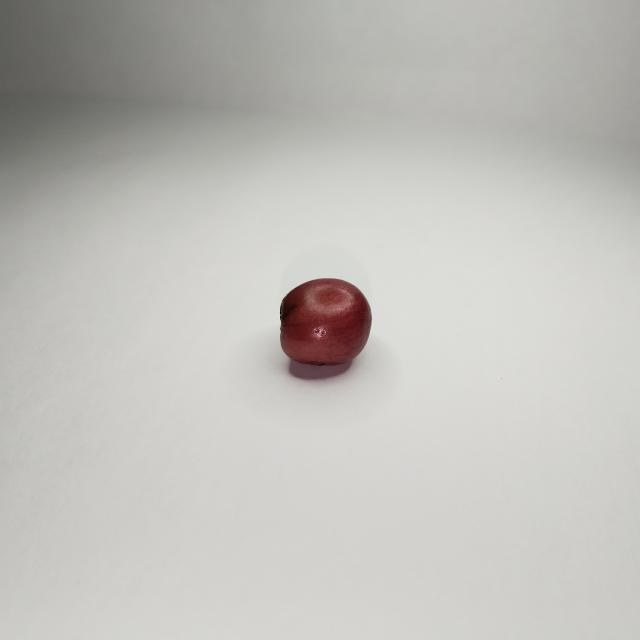Sano: (280, 278, 371, 378)
